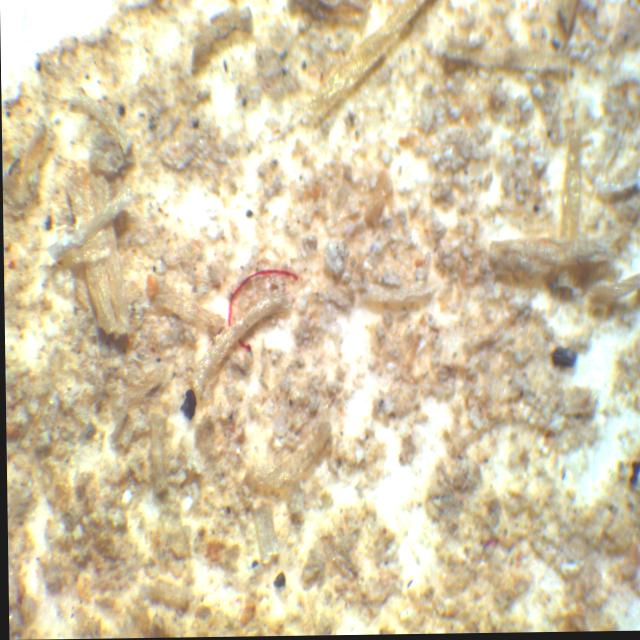microplastic: (226, 270, 298, 352)
